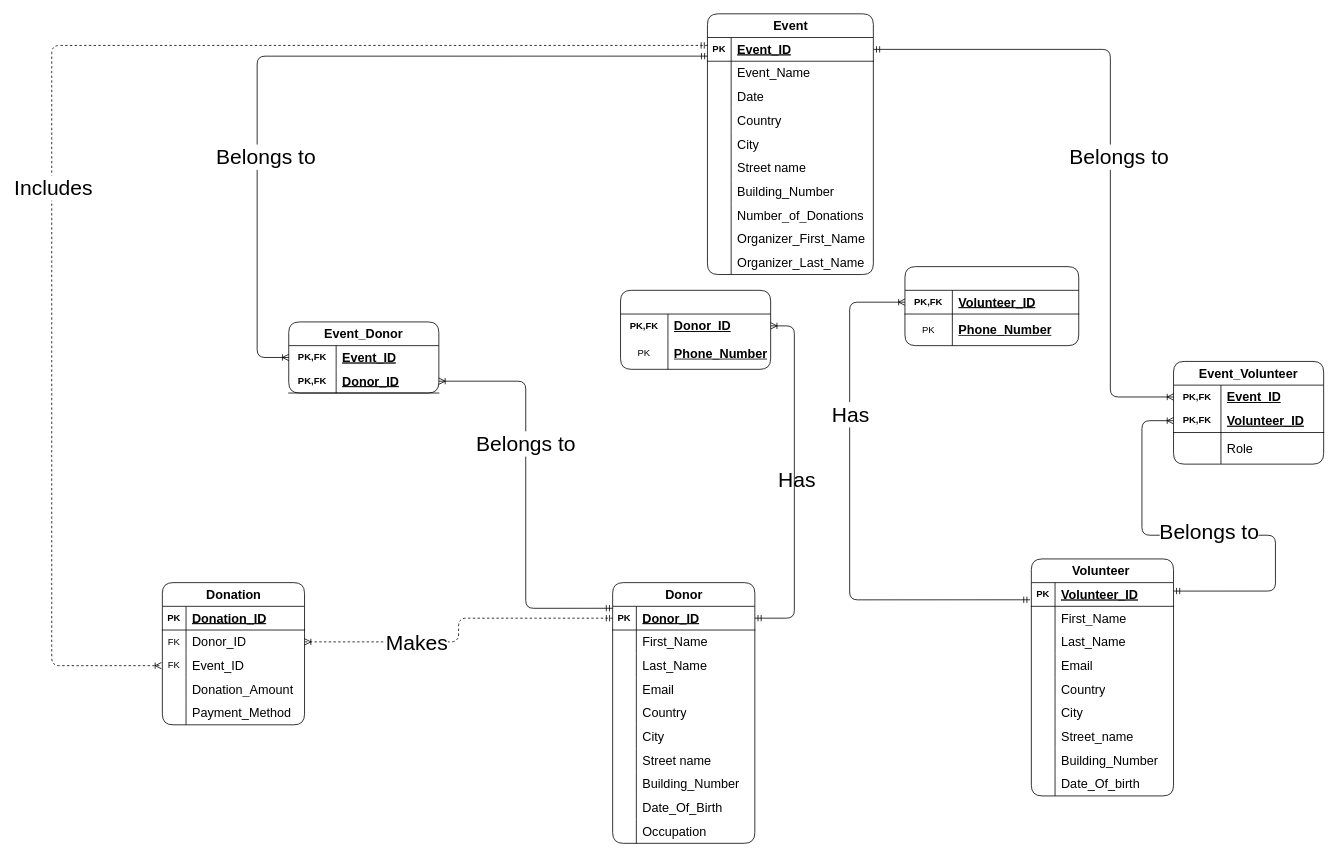
Some shapes in this 1337 by 857 pixel diagram are drawn without their labels. The shapes that lost their labels are listed below. From the top down, each one's box as (x1, y1, x2, y2) in pixels, then its label:
(904, 266, 1079, 346): Volunteer_Phone_Numbers
(620, 290, 771, 369): Donor_Phone_Numbers
